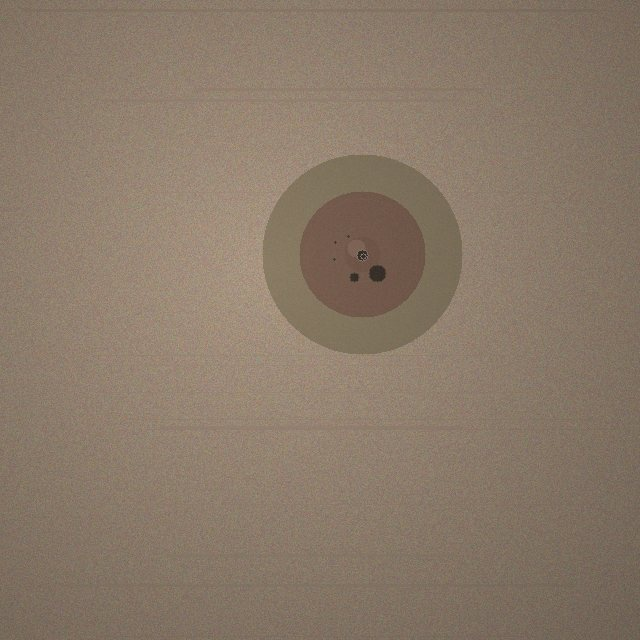shrinkage: (262, 154, 462, 354)
